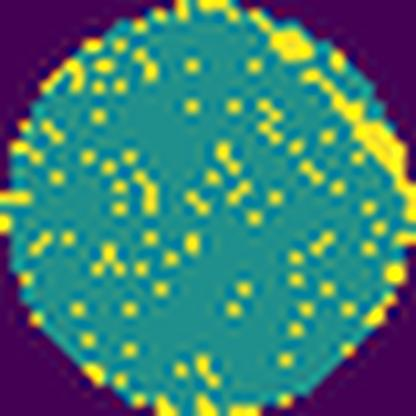Loc: (304, 66, 416, 224), (268, 27, 316, 64)
